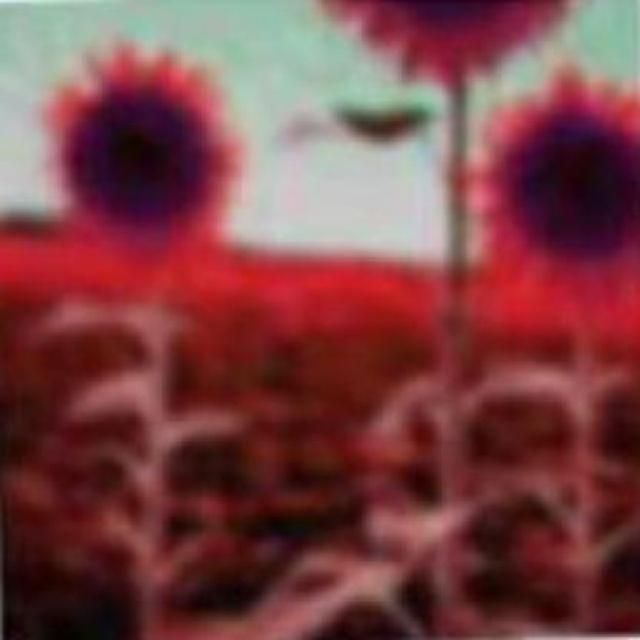sunflower: (43, 41, 244, 264), (469, 76, 640, 281)
